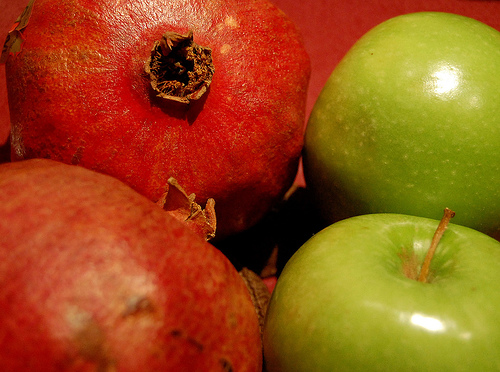pomogranate: (0, 0, 312, 244), (0, 156, 262, 371)
